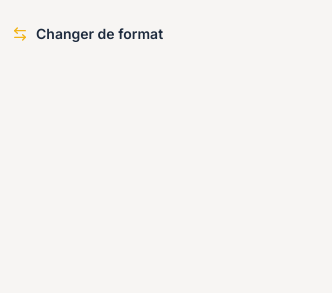
it: Commander inline Shopify variant selector › rechecks availability before confirming
Step 1. Click the button "Changer de format" → (88, 34), box x1=12 y1=12 x2=163 y2=56
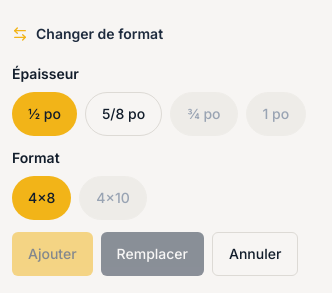
Step 2. Click the button "5/8 po" → (124, 114), box x1=85 y1=92 x2=162 y2=136
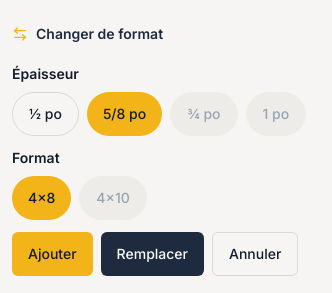
Step 3. Click the button "Remplacer" → (152, 254), box x1=101 y1=232 x2=204 y2=276
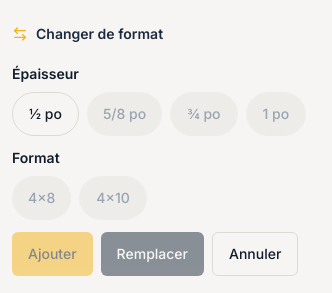
Expected: the button "5/8 po" is disabled, x1=87 y1=92 x2=162 y2=136
